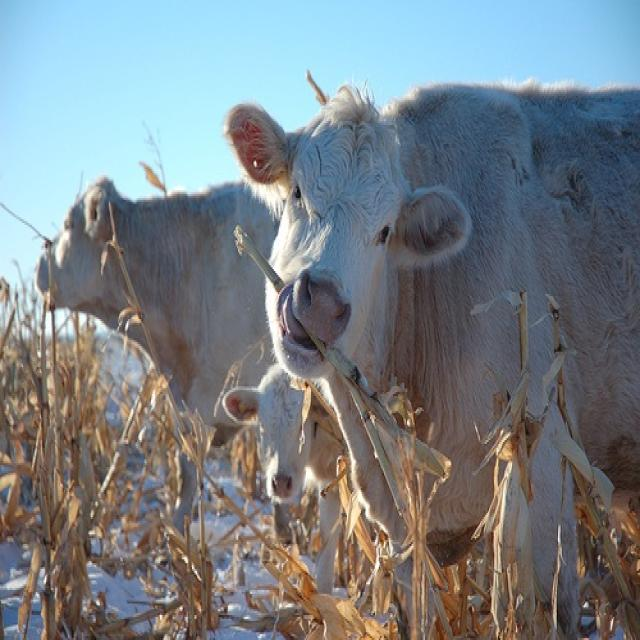cow: (222, 73, 638, 530), (32, 173, 292, 532), (222, 361, 344, 598)
